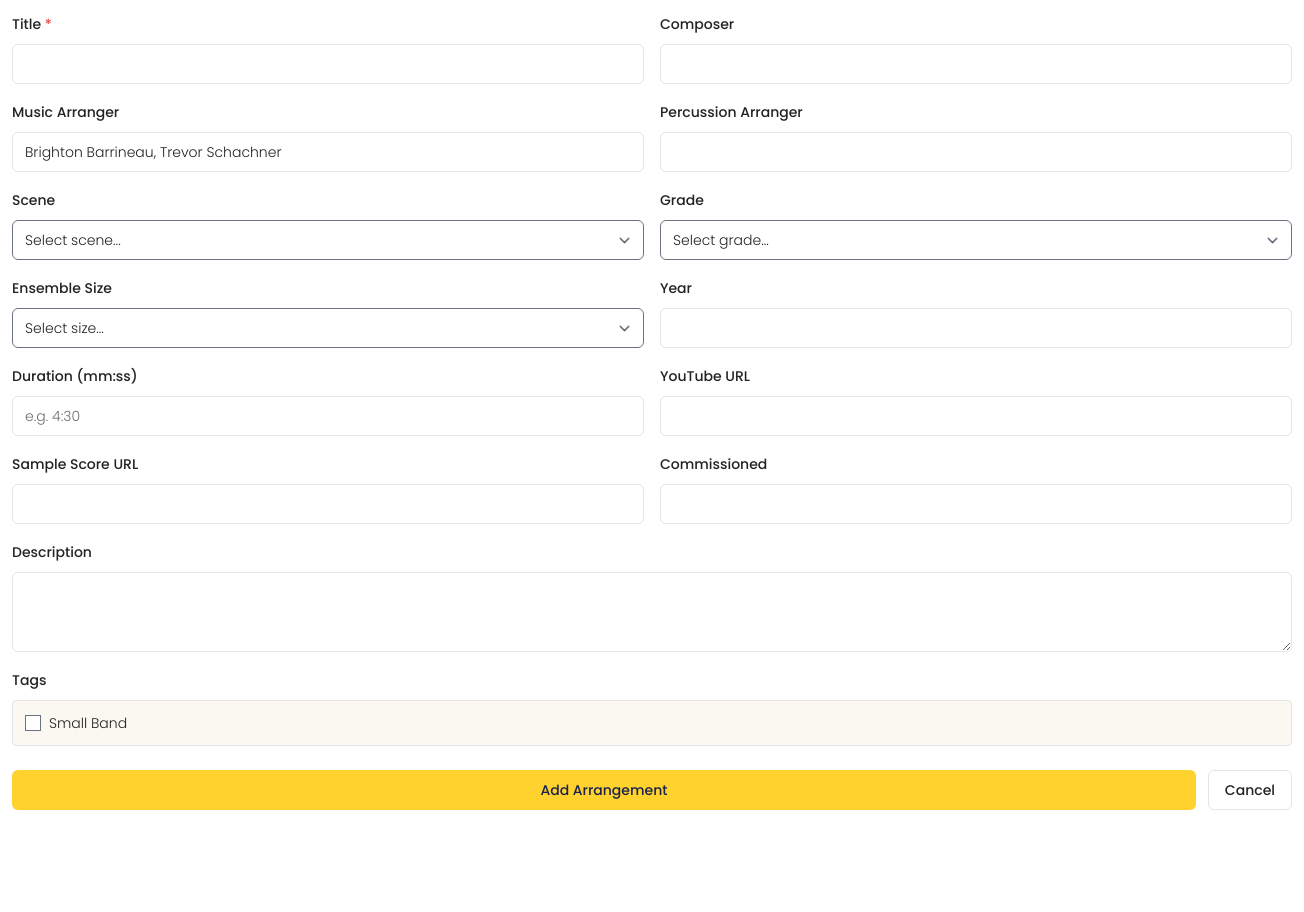
Test case: ArrangementForm › rejects a duration that is not mm:ss
This screenshot has width=1304, height=912.
Type "X" into the field labelled "Title *" at (328, 64), box [12,44,644,84]
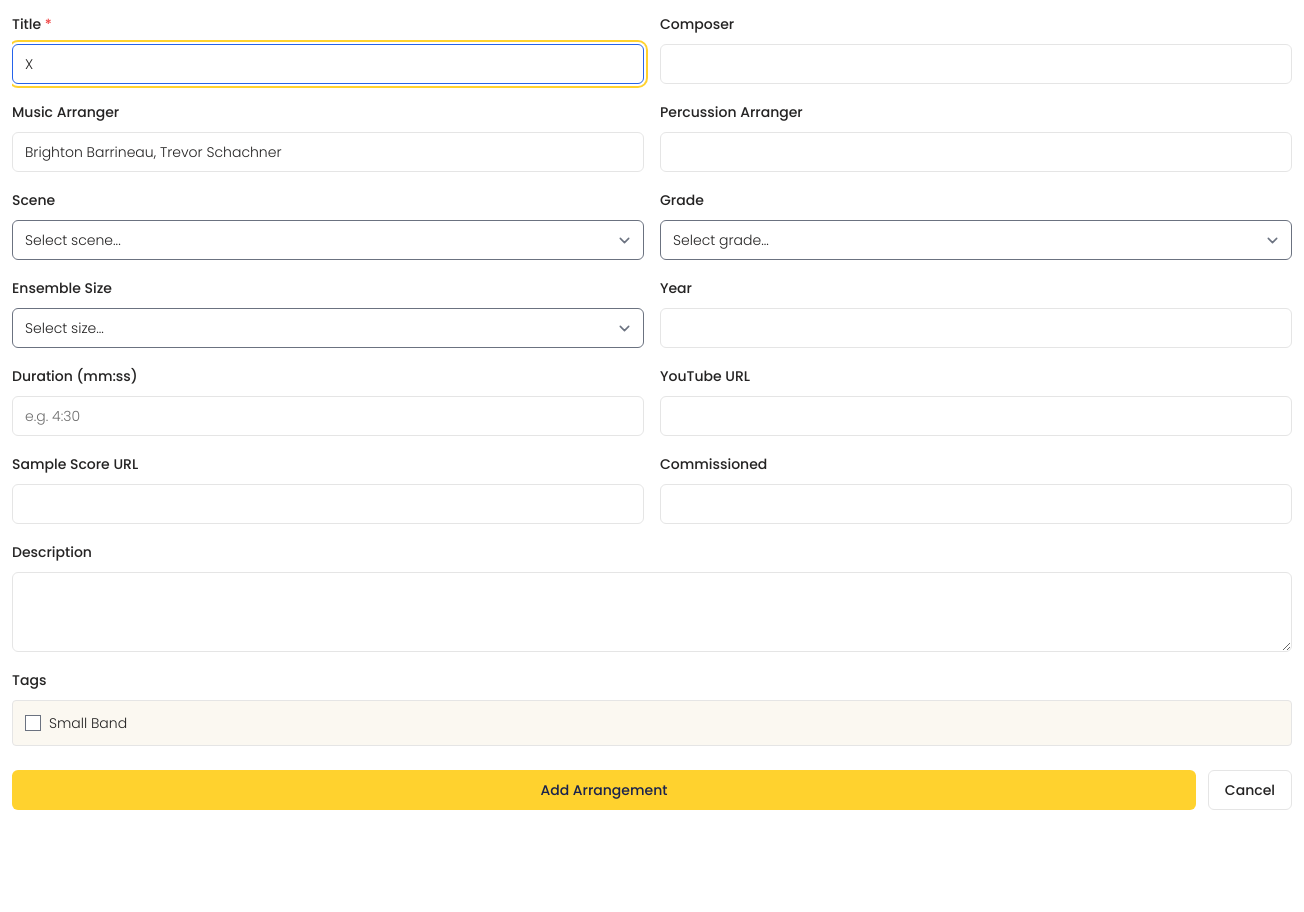
Type "soon" into the field labelled "Duration (mm:ss)" at (328, 416), box [12,396,644,436]
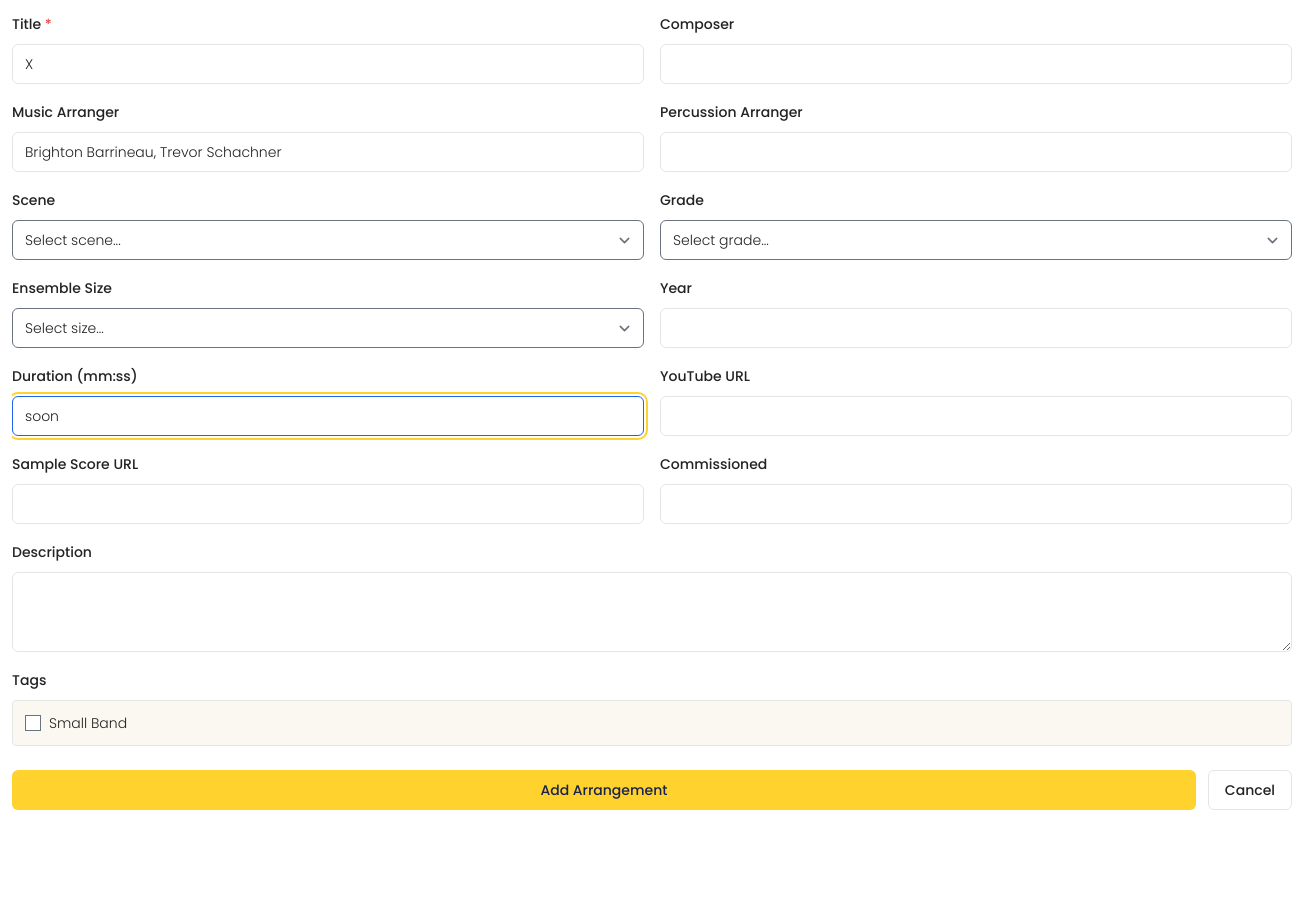
Click the button "Add Arrangement" at (604, 790), box [12,770,1196,810]
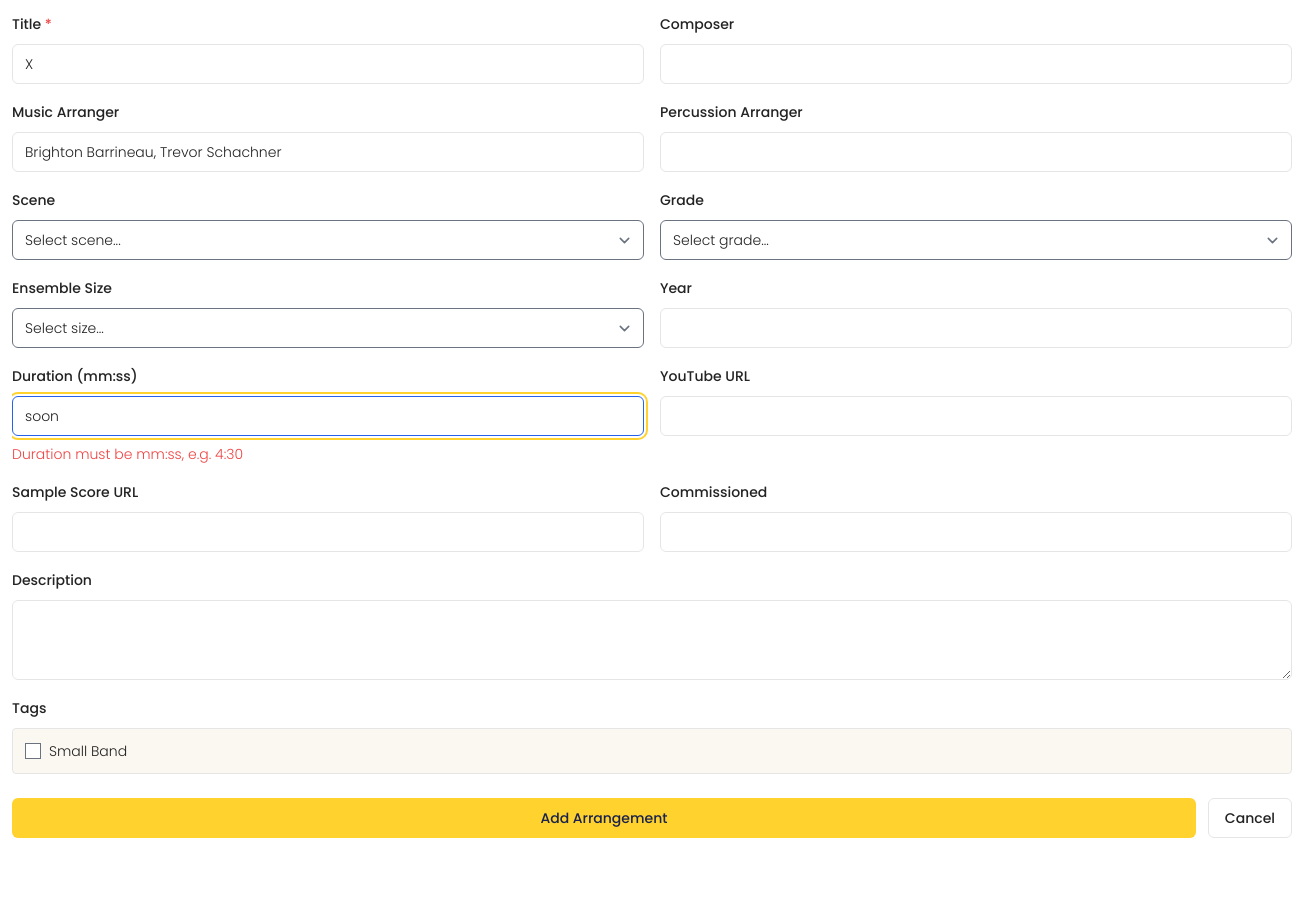
Result: the text "Duration must be mm:ss, e.g. 4:30" is shown at [12,444,243,464]
